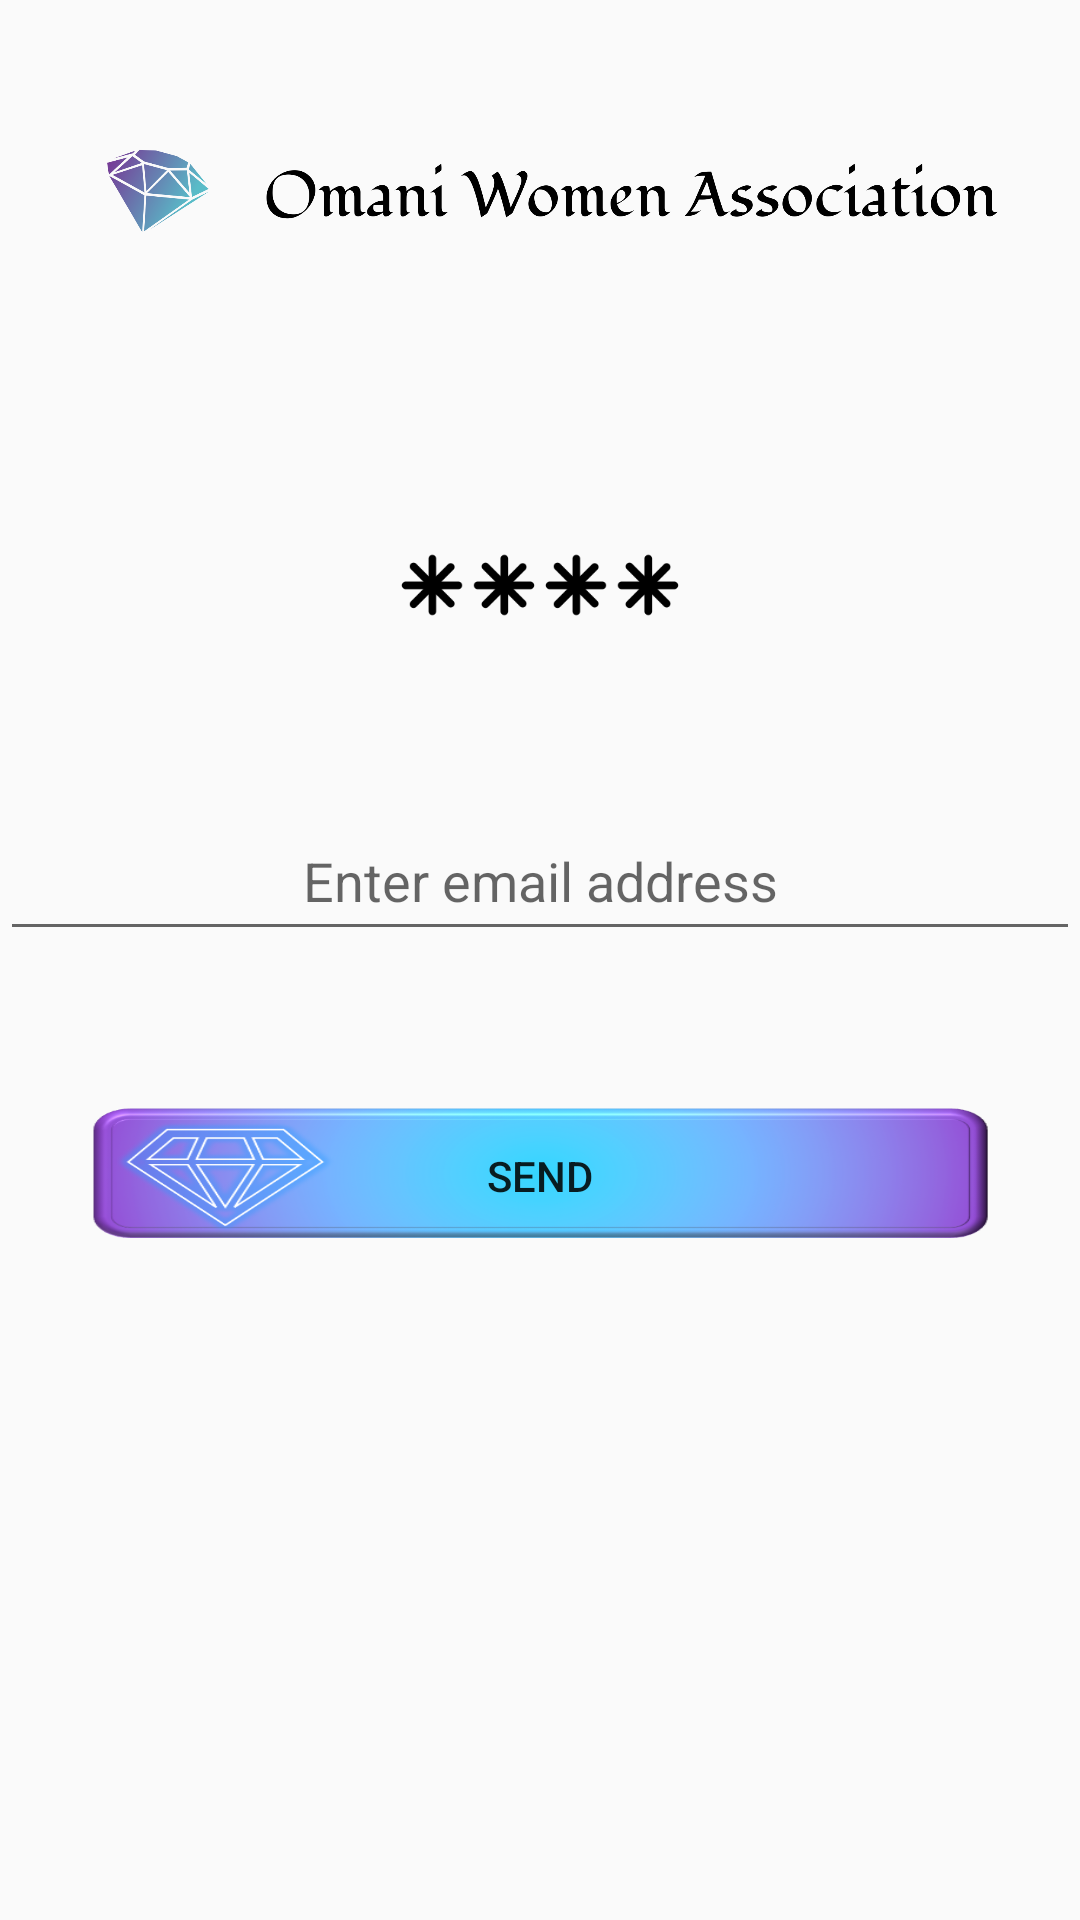

Where to tap for icons on this 1080w x 1920h app screen, as [x,y]:
forgetpassword: [540,585]
